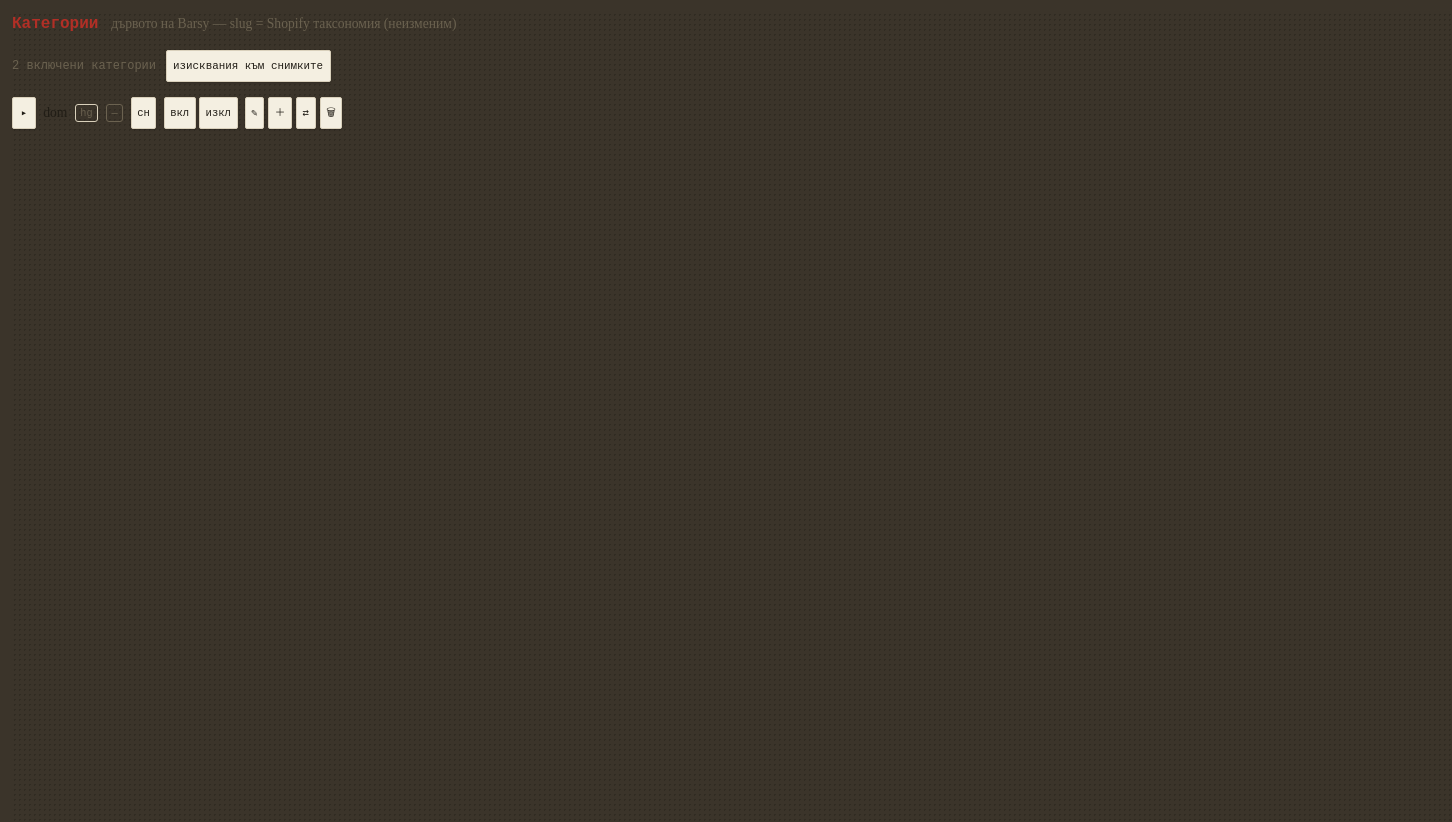
снимки на категория › badges the picture Barsy actually points at, and only that one
Check: the text "dom" is shown, box top-left (43, 102), bottom-right (67, 124)
Step 1. Click the button named "разгъни" → (24, 113), box top-left (12, 97), bottom-right (36, 129)
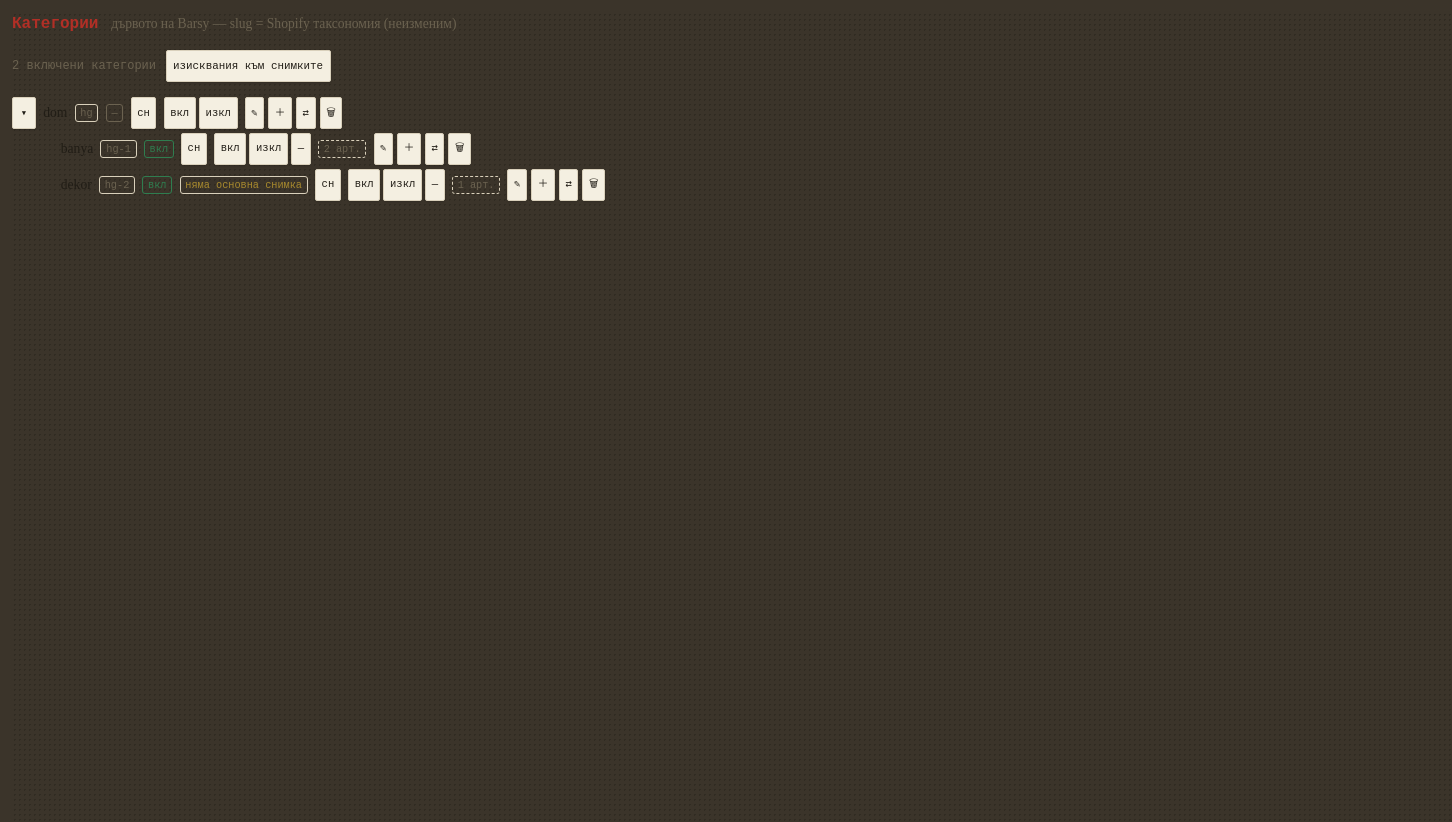
Step 2. Click the button "сн" in the row of "hg-1" → (194, 149), box top-left (181, 133), bottom-right (207, 165)
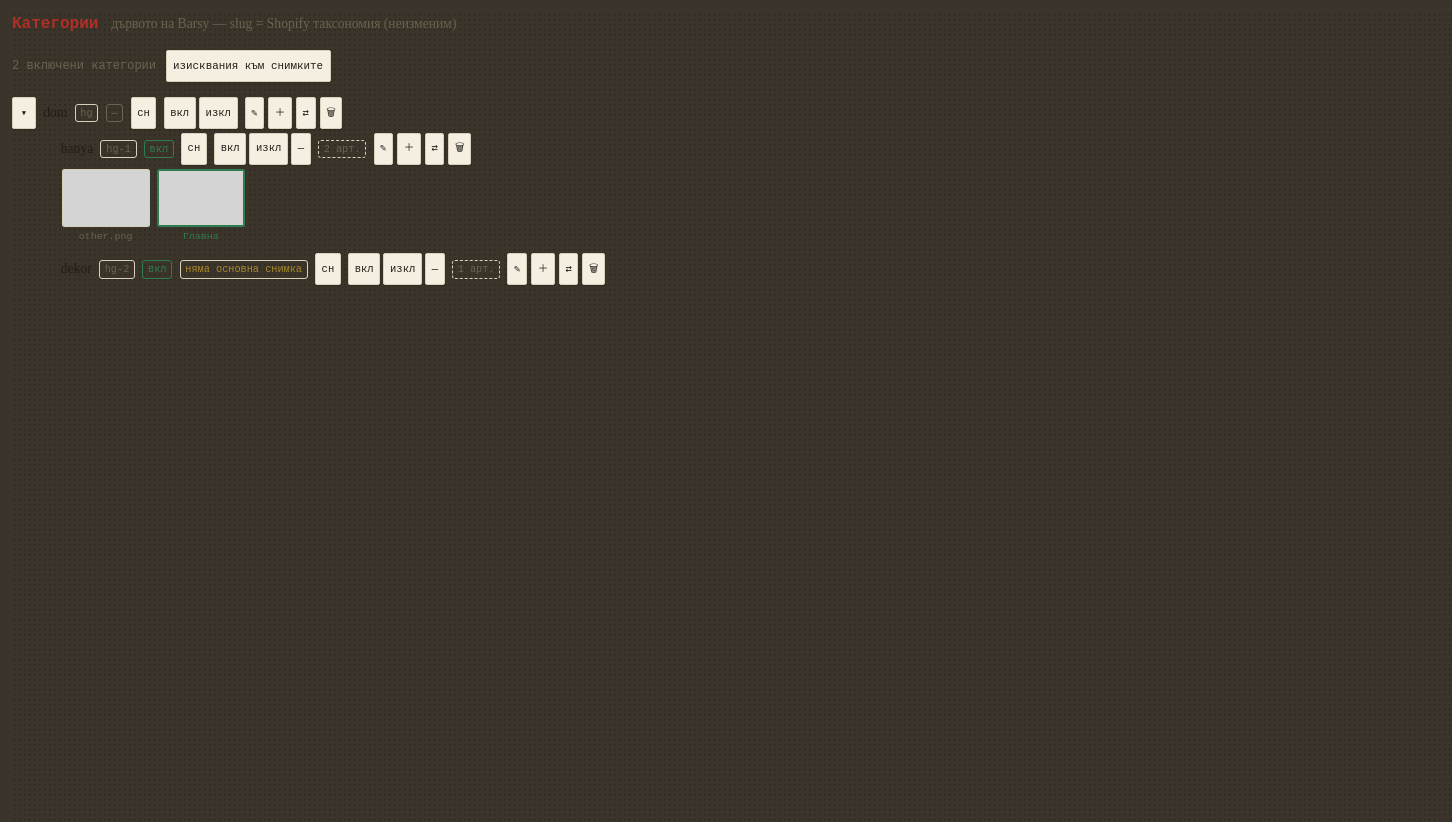
Check: the text "Главна" is shown once, box top-left (183, 229), bottom-right (219, 245)
Check: the text "other.png" is shown, box top-left (79, 229), bottom-right (132, 245)
